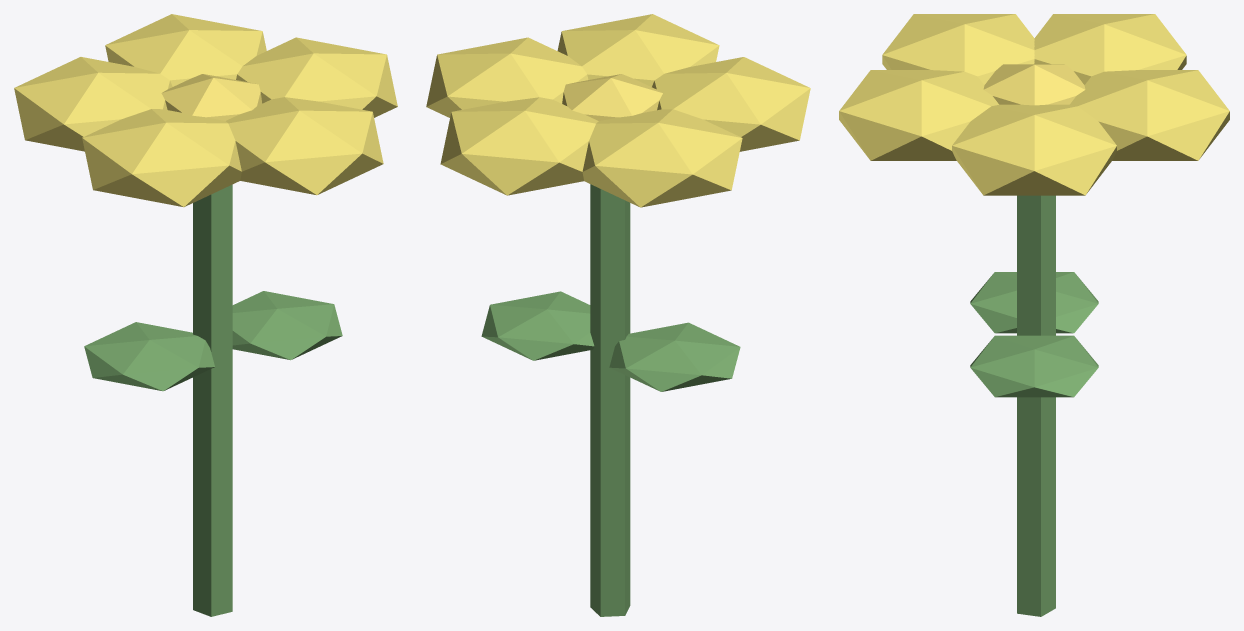
The model's file is fleur_jaune.glb.
3 views of the same model, side by side, from view 1: azimuth 30°, elevation 25°; view 2: azimuth 150°, elevation 25°; view 3: azimuth 270°, elevation 25° (orthographic). The views are drawn at different scales.
Parts seen in each view (by area): view 1: Cylinder, Icosphere.003, Icosphere.004, Icosphere.002, Icosphere, Icosphere.001, Icosphere.006, Icosphere.007, Icosphere.005; view 2: Cylinder, Icosphere.002, Icosphere.001, Icosphere.003, Icosphere, Icosphere.004, Icosphere.006, Icosphere.007, Icosphere.005; view 3: Cylinder, Icosphere, Icosphere.001, Icosphere.004, Icosphere.002, Icosphere.003, Icosphere.007, Icosphere.006, Icosphere.005.
Boxes of the visible parts, left/top/right/bottom form: Cylinder: left=193, top=184, right=232, bottom=616; Icosphere.003: left=82, top=109, right=241, bottom=207; Icosphere.004: left=226, top=97, right=383, bottom=195; Icosphere.002: left=14, top=57, right=172, bottom=151; Icosphere: left=236, top=37, right=397, bottom=117; Icosphere.001: left=105, top=14, right=266, bottom=86; Icosphere.006: left=84, top=322, right=214, bottom=391; Icosphere.007: left=232, top=291, right=342, bottom=360; Icosphere.005: left=161, top=74, right=262, bottom=120; Cylinder: left=590, top=184, right=630, bottom=616; Icosphere.002: left=582, top=109, right=742, bottom=207; Icosphere.001: left=440, top=97, right=598, bottom=195; Icosphere.003: left=652, top=57, right=810, bottom=151; Icosphere: left=426, top=37, right=588, bottom=117; Icosphere.004: left=557, top=14, right=719, bottom=86; Icosphere.006: left=609, top=322, right=740, bottom=391; Icosphere.007: left=481, top=291, right=594, bottom=360; Icosphere.005: left=562, top=74, right=662, bottom=120; Cylinder: left=1017, top=195, right=1055, bottom=616; Icosphere: left=952, top=104, right=1116, bottom=195; Icosphere.001: left=1070, top=70, right=1229, bottom=160; Icosphere.004: left=839, top=70, right=998, bottom=160; Icosphere.002: left=1034, top=14, right=1186, bottom=84; Icosphere.003: left=882, top=14, right=1034, bottom=84; Icosphere.007: left=970, top=335, right=1098, bottom=397; Icosphere.006: left=970, top=272, right=1098, bottom=333; Icosphere.005: left=983, top=64, right=1085, bottom=105.
Size of the model in its own units: 0.36 by 0.556 by 0.3623.
